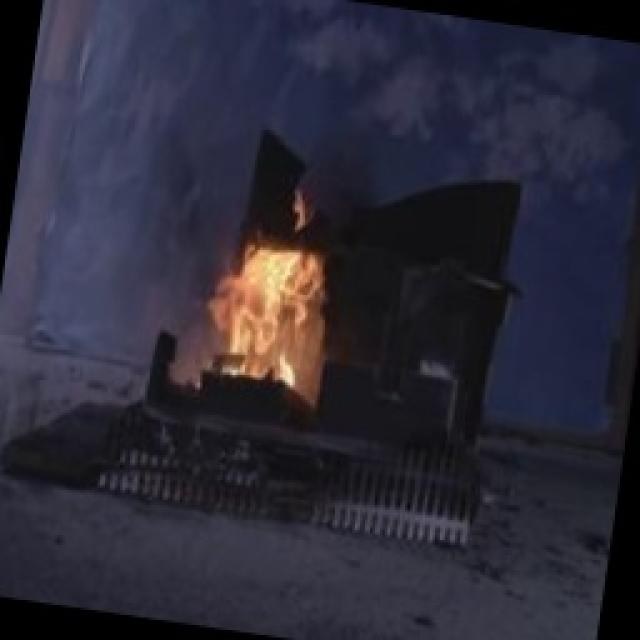fire: (193, 195, 355, 400)
